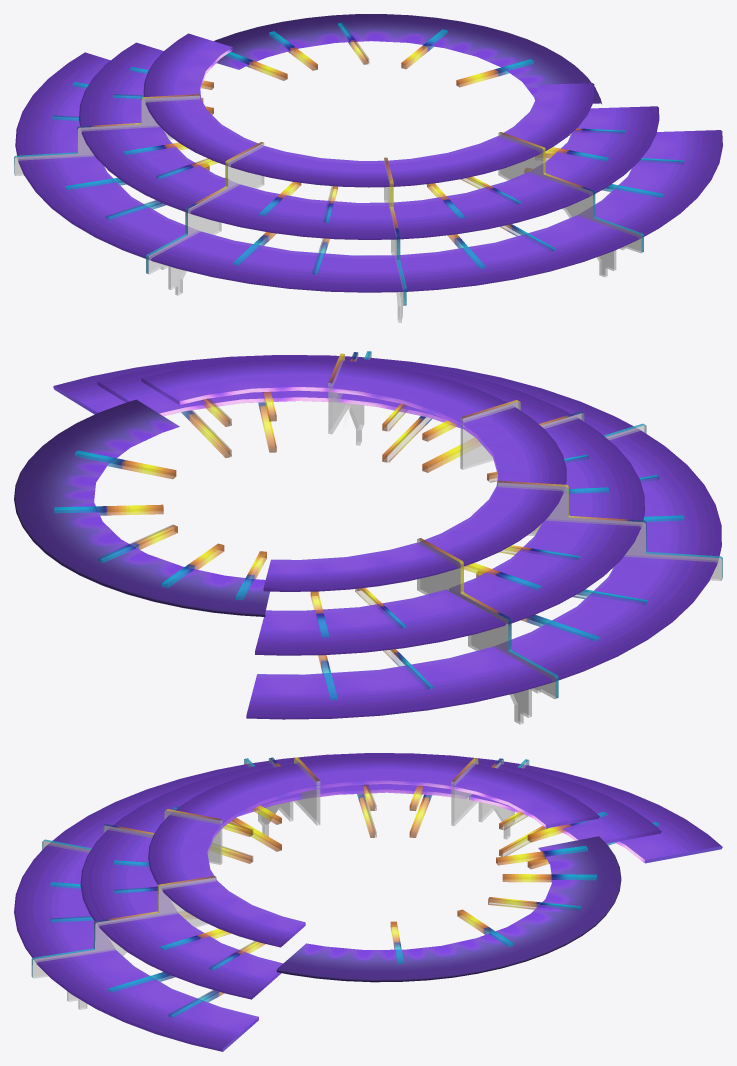
The model's file is wheel_big_platform.glb.
3 views of the same model, one above another, from view 1: azimuth 30°, elevation 25°; view 2: azimuth 150°, elevation 25°; view 3: azimuth 270°, elevation 25° (orthographic). The views are drawn at different scales.
Parts seen in each view (by area): view 1: wheel_step_lowerShape, wheel_step_middleShape, wheel_step_upperShape, wheel_step_podiumShape, wheel_bars_upperShape:2, wheel_bars_upperShape:0, wheel_bars_upperShape:1; view 2: wheel_step_lowerShape, wheel_step_middleShape, wheel_step_upperShape, wheel_step_podiumShape, wheel_bars_upperShape:2, wheel_bars_upperShape:0, wheel_bars_upperShape:1; view 3: wheel_step_lowerShape, wheel_step_middleShape, wheel_step_upperShape, wheel_step_podiumShape, wheel_bars_upperShape:2, wheel_bars_upperShape:0, wheel_bars_upperShape:1.
Part boxes in pixels (x1,y1,x2,y2): wheel_step_lowerShape: (15,52,722,292); wheel_step_middleShape: (79,42,659,239); wheel_step_upperShape: (143,33,594,187); wheel_step_podiumShape: (214,14,601,103); wheel_bars_upperShape:2: (52,22,684,274); wheel_bars_upperShape:0: (14,94,643,322); wheel_bars_upperShape:1: (14,94,643,305); wheel_step_lowerShape: (53,355,721,719); wheel_step_middleShape: (97,356,644,655); wheel_step_upperShape: (141,358,566,591); wheel_step_podiumShape: (14,399,269,616); wheel_bars_upperShape:2: (54,391,684,699); wheel_bars_upperShape:0: (328,352,722,724); wheel_bars_upperShape:1: (328,351,722,698); wheel_step_lowerShape: (14,753,722,1051); wheel_step_middleShape: (80,754,661,999); wheel_step_upperShape: (148,756,599,947); wheel_step_podiumShape: (276,836,621,982); wheel_bars_upperShape:2: (50,784,659,1017); wheel_bars_upperShape:0: (32,758,529,1009); wheel_bars_upperShape:1: (31,757,528,977).
Size of the model in its own units: 486 by 85.08 by 490.
Materials: 7 (7 with a texture image).
